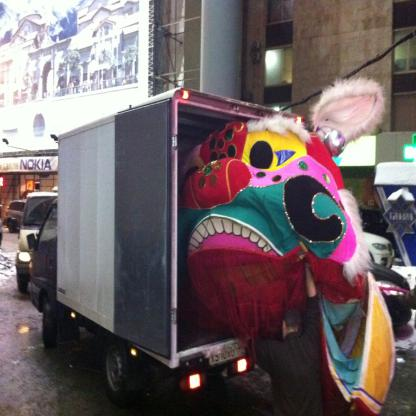Car: (15, 184, 65, 308)
